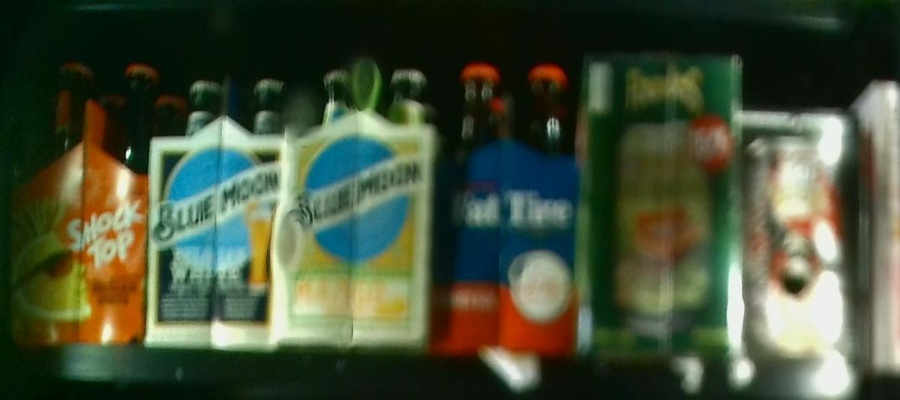bottle: (580, 50, 741, 352), (284, 62, 433, 343), (438, 60, 574, 348), (154, 62, 276, 346), (28, 52, 142, 345), (741, 110, 859, 351)
